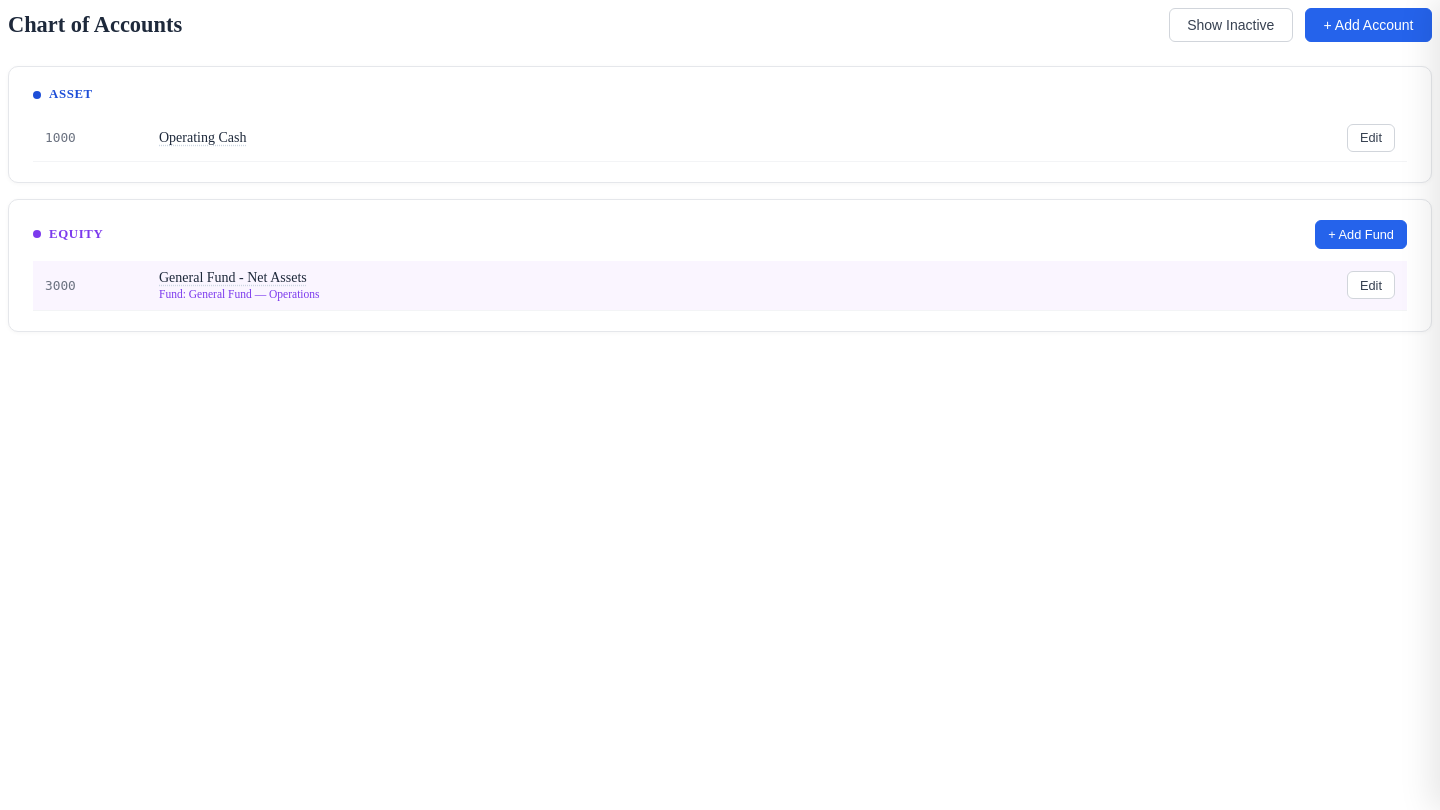
ChartOfAccounts drawer › hides the Balance column in fund mode
Click the text "General Fund - Net Assets". click: (233, 278)
box: [159,270,307,285]
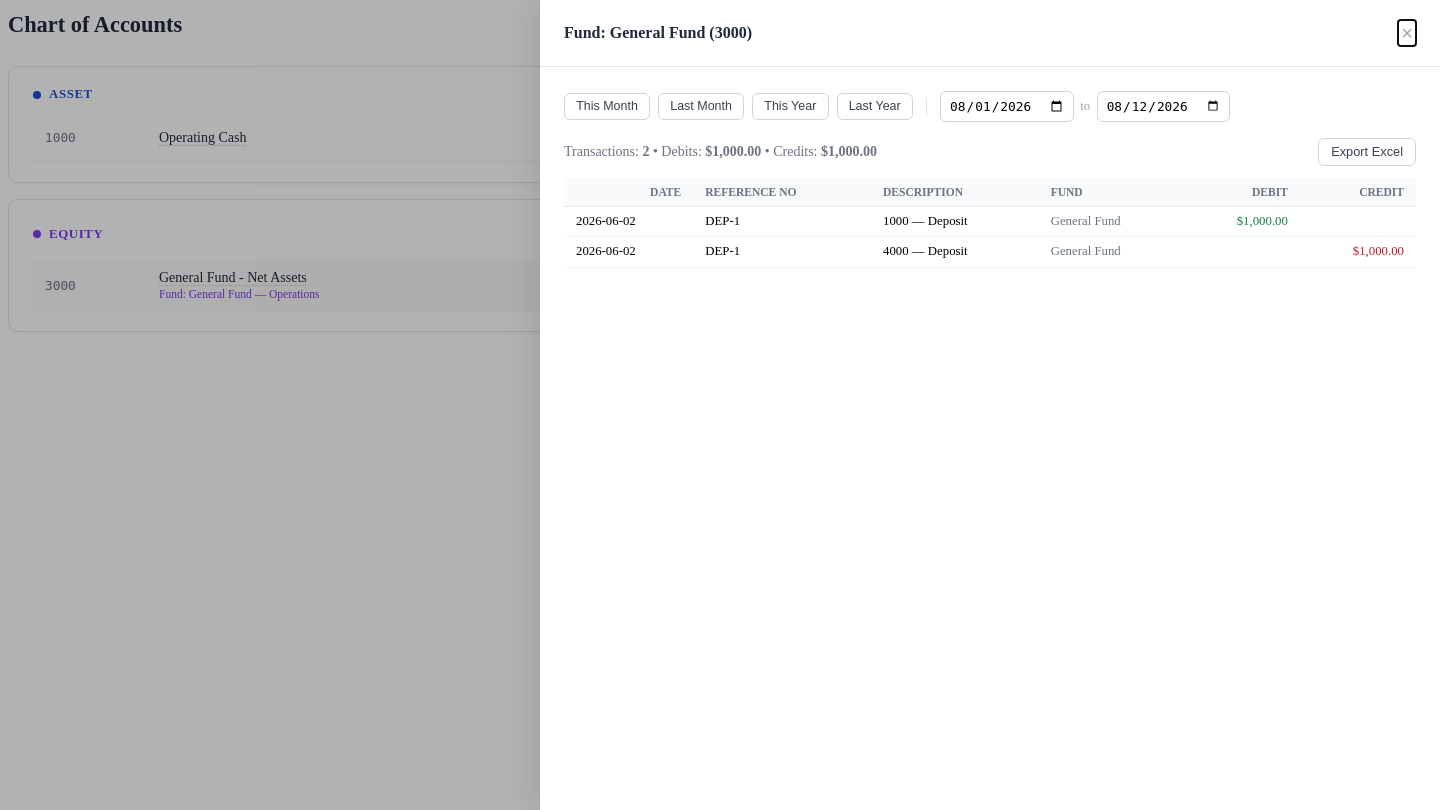
Check: the button "Export Excel" is shown, box [1318,138,1416,166]
